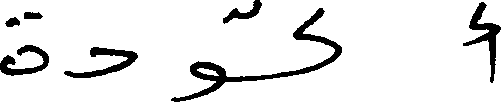أ: (462, 0, 499, 83)
ة: (0, 10, 48, 77)
د: (64, 45, 136, 78)
ك: (222, 0, 340, 84)
و: (172, 14, 224, 99)
